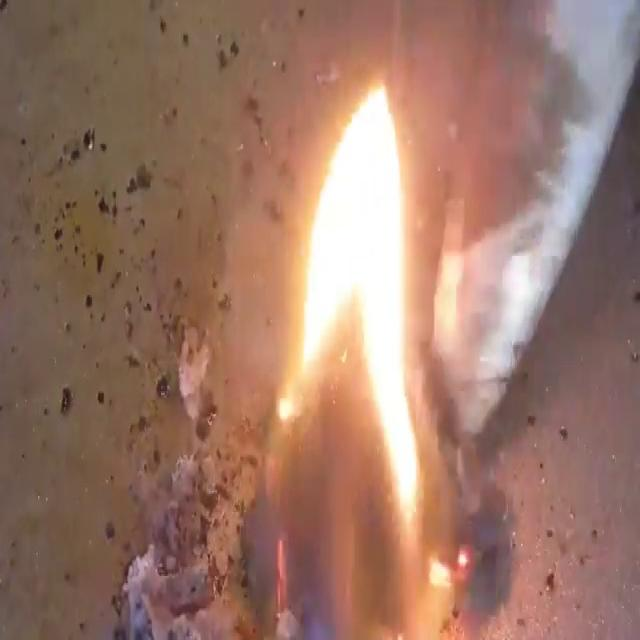Fire: (4, 4, 636, 636), (282, 78, 426, 526)
